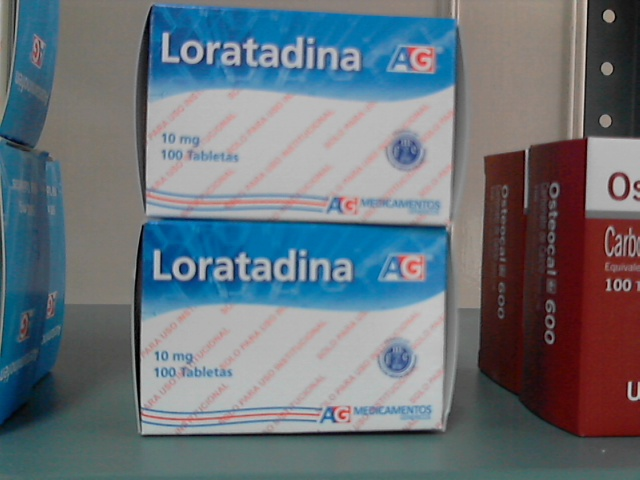AG: (149, 8, 452, 224), (141, 224, 444, 429)
